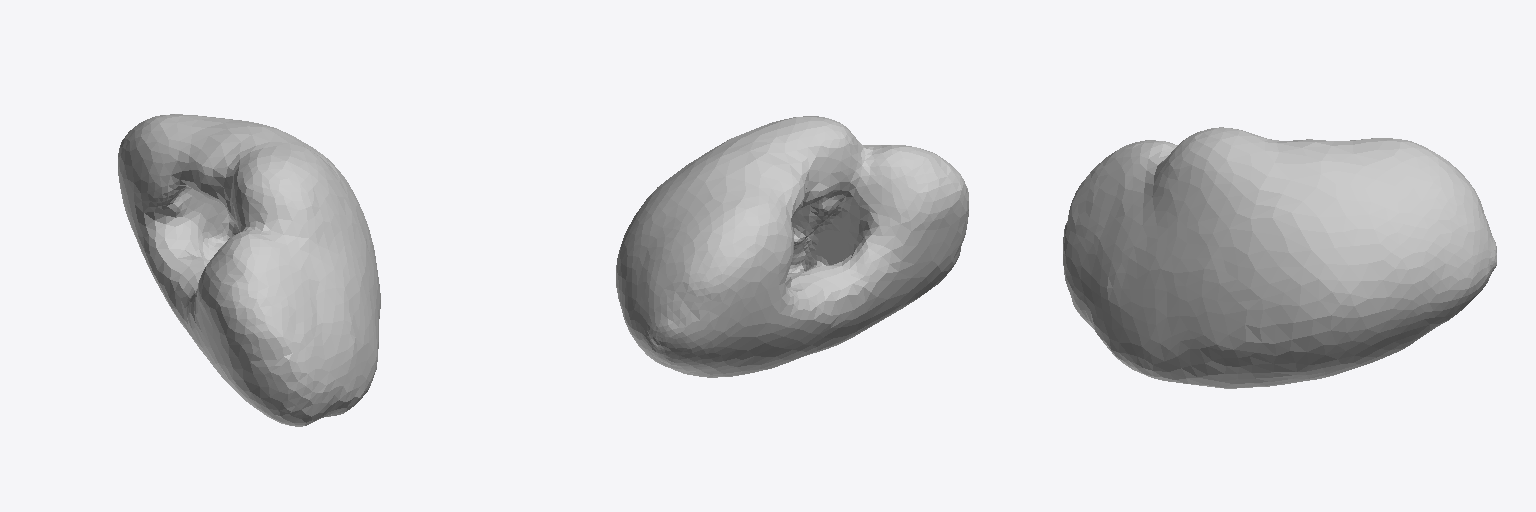
Rendered from right_kidney.obj.
3 renders of one model, left to right at view 1: azimuth 30°, elevation 25°; view 2: azimuth 150°, elevation 25°; view 3: azimuth 270°, elevation 25°, orthographic.
Parts seen in each view (by area): view 1: right_kidney; view 2: right_kidney; view 3: right_kidney.
Part boxes in pixels (bbox=[...]): right_kidney: bbox=[118, 114, 380, 426]; right_kidney: bbox=[616, 116, 968, 377]; right_kidney: bbox=[1063, 127, 1496, 388].
Size of the model in its own units: 62.1 by 60.26 by 101.